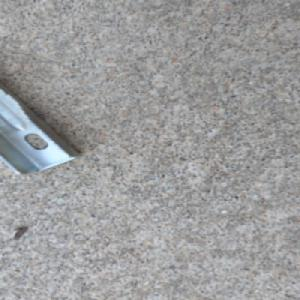ClampPart: (0, 80, 85, 177)
